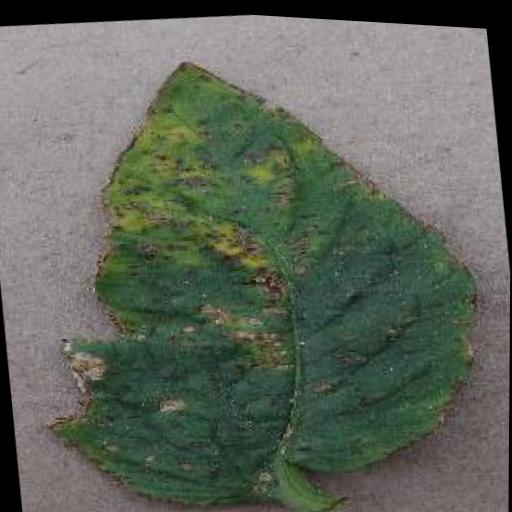Bacterial Spot: (2, 15, 502, 512)
